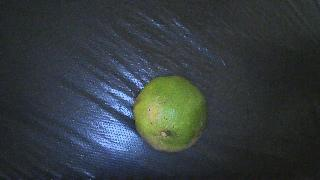DESECHO: (133, 76, 207, 152)
